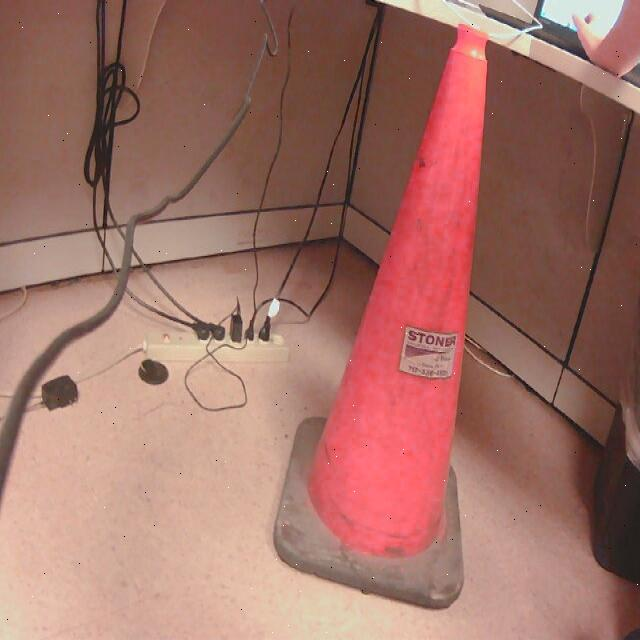traffic cone: (274, 26, 489, 614)
